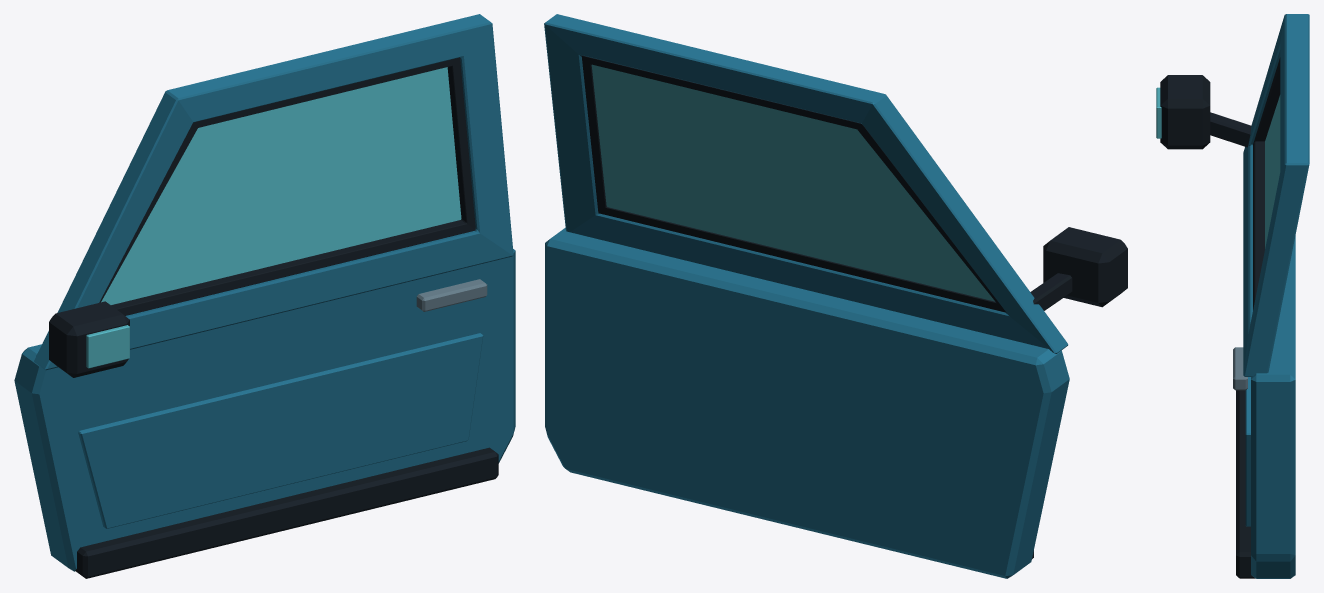
File: QC_DoorL.fbx
3 renders of one model, left to right at view 1: azimuth 30°, elevation 25°; view 2: azimuth 150°, elevation 25°; view 3: azimuth 270°, elevation 25°, orthographic. The views are drawn at different scales.
Parts seen in each view (by area): view 1: QC_DoorL; view 2: QC_DoorL; view 3: QC_DoorL.
Boxes of the visible parts, x1,y1,x2,y2 form: QC_DoorL: (14,14,515,578); QC_DoorL: (544,14,1127,578); QC_DoorL: (1156,14,1309,578).
Bounding box in the file's own units: 1.32 × 1.11 × 0.3633.
